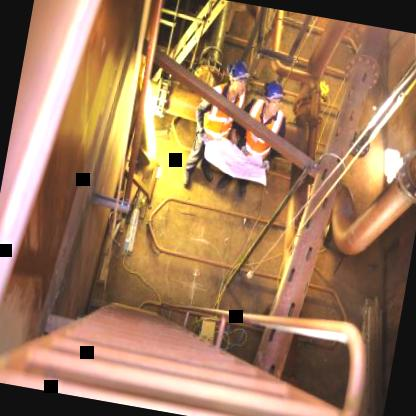helmet: (258, 75, 290, 121), (222, 57, 252, 98)
